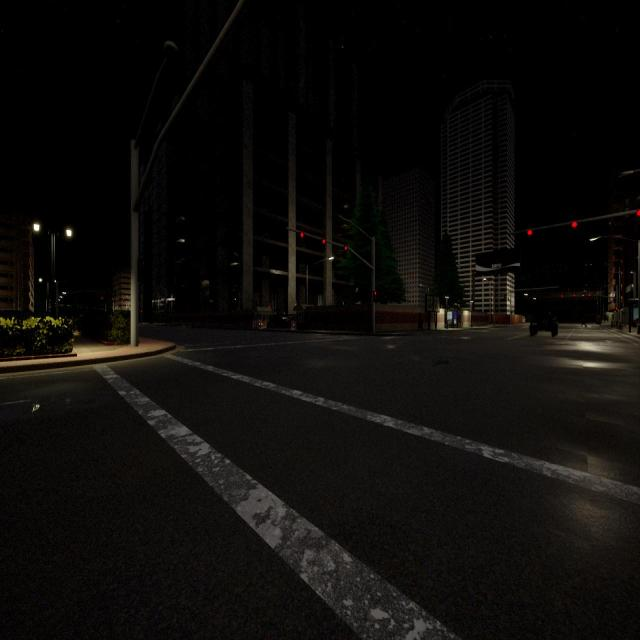Pedestrian: (417, 310, 425, 334), (579, 310, 587, 329)
Vehicle: (529, 309, 558, 338), (520, 316, 526, 324)
traffic_light: (137, 258, 144, 282), (373, 290, 376, 302), (527, 229, 533, 235), (572, 221, 577, 228), (636, 210, 640, 217), (322, 238, 326, 244), (300, 232, 304, 237), (344, 246, 348, 251), (616, 306, 618, 313), (140, 309, 143, 313), (101, 296, 103, 300), (561, 294, 563, 298), (573, 294, 575, 297), (588, 294, 591, 296), (123, 298, 124, 302), (112, 298, 113, 300)
